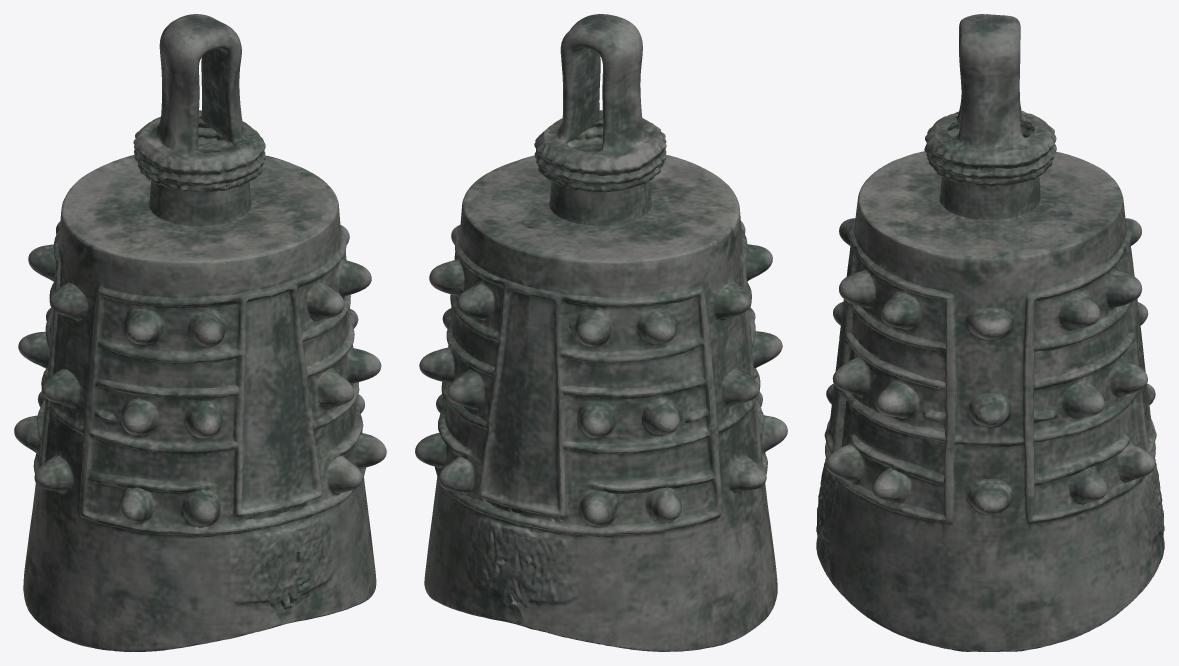
The model's file is tex_mesh.glb.
3 renders of one model, left to right at view 1: azimuth 30°, elevation 25°; view 2: azimuth 150°, elevation 25°; view 3: azimuth 270°, elevation 25°, orthographic.
Parts seen in each view (by area): view 1: world; view 2: world; view 3: world.
Boxes of the visible parts, <box> form: world: <box>14,14,386,651</box>; world: <box>415,14,787,651</box>; world: <box>816,14,1164,651</box>.
Size of the model in its own units: 0.2097 by 0.35 by 0.1976.
Materials: 1 (1 with a texture image).
